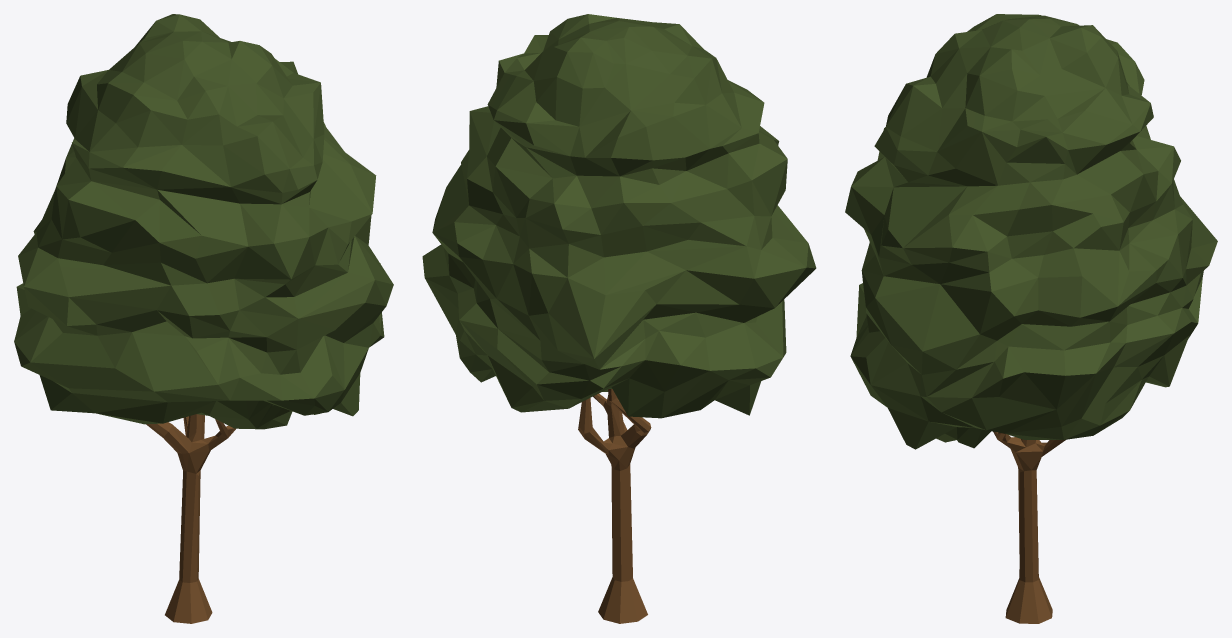
File: delh_foli_04_01.fbx
3 renders of one model, left to right at view 1: azimuth 30°, elevation 25°; view 2: azimuth 150°, elevation 25°; view 3: azimuth 270°, elevation 25°, orthographic. The views are drawn at different scales.
Visible parts, largest first — view 1: delh_foli_04_01; view 2: delh_foli_04_01; view 3: delh_foli_04_01.
Part boxes in pixels (bbox=[...]): delh_foli_04_01: bbox=[14, 14, 393, 623]; delh_foli_04_01: bbox=[422, 14, 816, 623]; delh_foli_04_01: bbox=[845, 14, 1217, 623].
Bounding box in the file's own units: 317 × 498 × 283.
